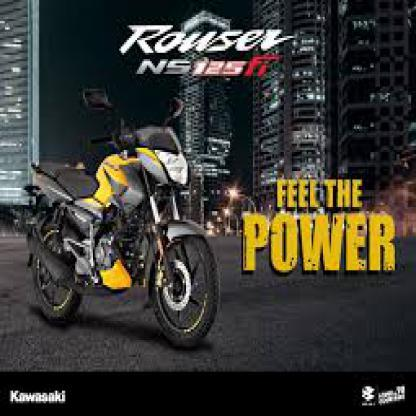Motorcycle: (18, 81, 224, 355)
